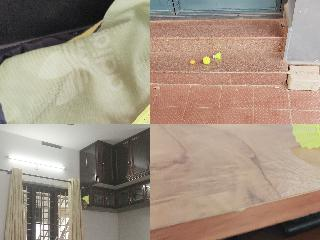shuttlecock: (100, 89, 149, 123), (291, 124, 319, 150), (213, 52, 221, 58), (82, 195, 88, 203)
